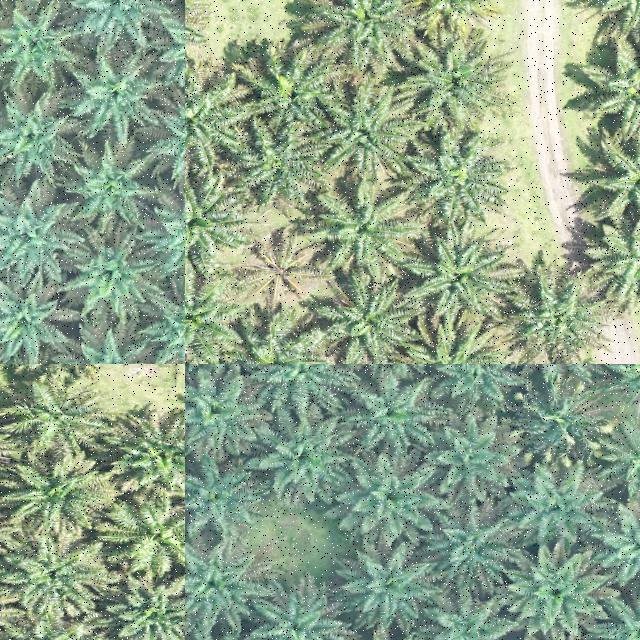Ganoderma: (247, 244, 310, 296)
